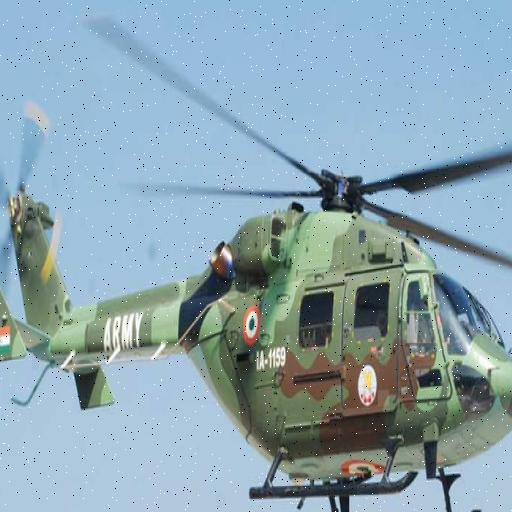helicopter: (1, 11, 512, 512)
